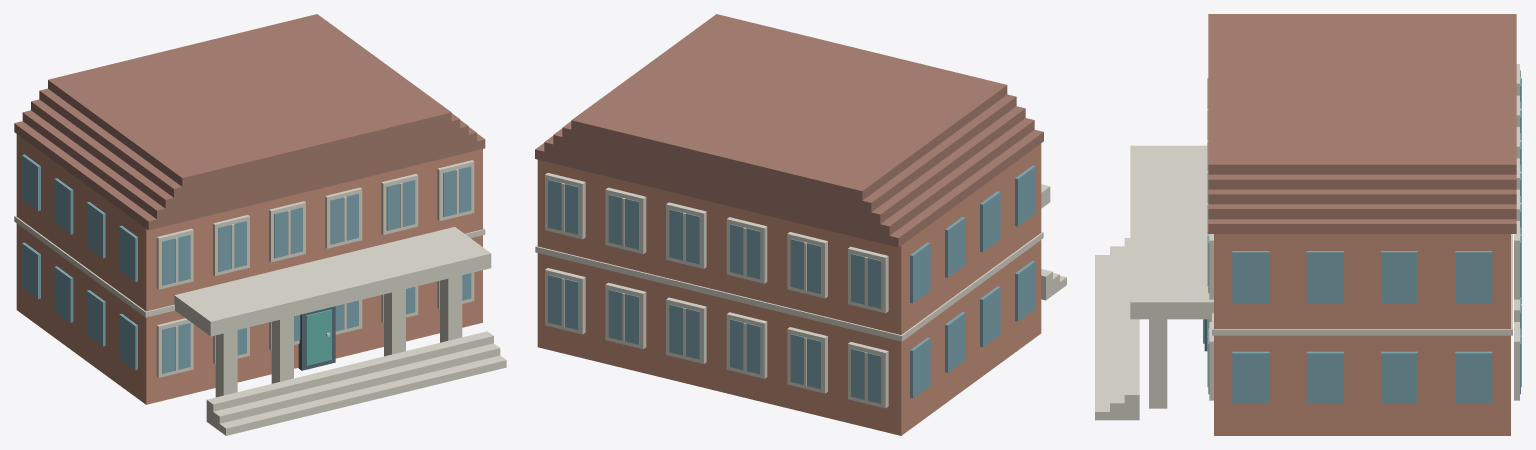
The picture shows the model from 3 angles, left to right: view 1: azimuth 30°, elevation 25°; view 2: azimuth 150°, elevation 25°; view 3: azimuth 270°, elevation 25°; orthographic projection. The views are drawn at different scales.
Visible parts, largest first — view 1: rail-station-roof, rail-station-concrete, rail-station-brick, rail-station-glass, rail-station-accent, rail-station-dark; view 2: rail-station-roof, rail-station-brick, rail-station-glass, rail-station-concrete; view 3: rail-station-roof, rail-station-brick, rail-station-concrete, rail-station-glass.
Boxes of the visible parts, left/top/right/bottom form: rail-station-roof: left=14, top=14, right=485, bottom=230; rail-station-concrete: left=14, top=160, right=506, bottom=435; rail-station-brick: left=16, top=134, right=482, bottom=404; rail-station-glass: left=22, top=154, right=471, bottom=373; rail-station-accent: left=306, top=309, right=331, bottom=365; rail-station-dark: left=298, top=306, right=335, bottom=370; rail-station-roof: left=535, top=14, right=1043, bottom=247; rail-station-brick: left=537, top=143, right=1041, bottom=435; rail-station-glass: left=548, top=165, right=1035, bottom=403; rail-station-concrete: left=535, top=173, right=1066, bottom=408; rail-station-roof: left=1208, top=14, right=1516, bottom=233; rail-station-brick: left=1214, top=234, right=1510, bottom=435; rail-station-concrete: left=1095, top=64, right=1521, bottom=420; rail-station-glass: left=1208, top=70, right=1520, bottom=403.
Size of the model in its own units: 12.2 by 7.5 by 11.49.
